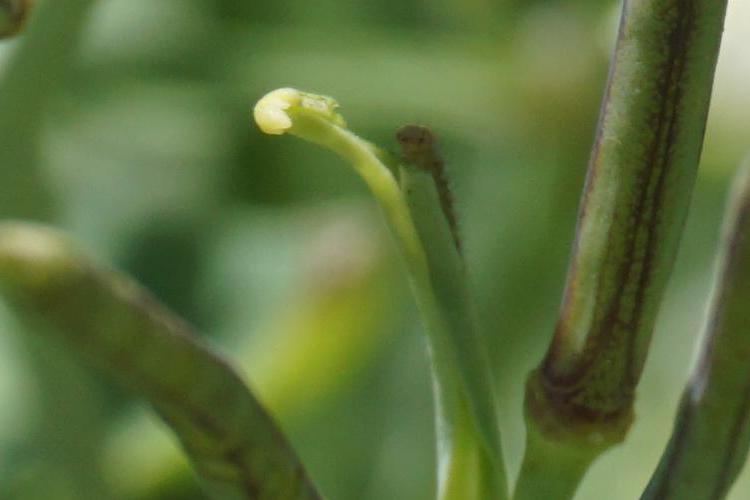pod: (21, 199, 315, 500), (540, 19, 710, 459)
